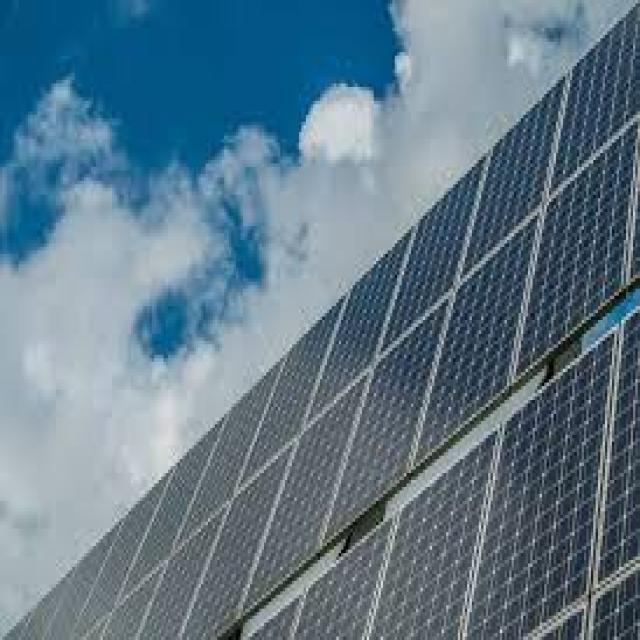clean-solar-panel: (11, 7, 640, 638)
